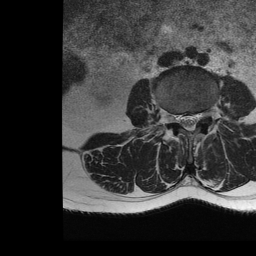CCS_normal: (185, 104, 192, 138)
LFS_normal: (198, 104, 206, 127)
LLS_normal: (191, 105, 198, 133)
RFS_normal: (169, 103, 176, 129)
RLS_normal: (176, 104, 184, 131)
